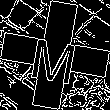M_N: (28, 26, 82, 84)
